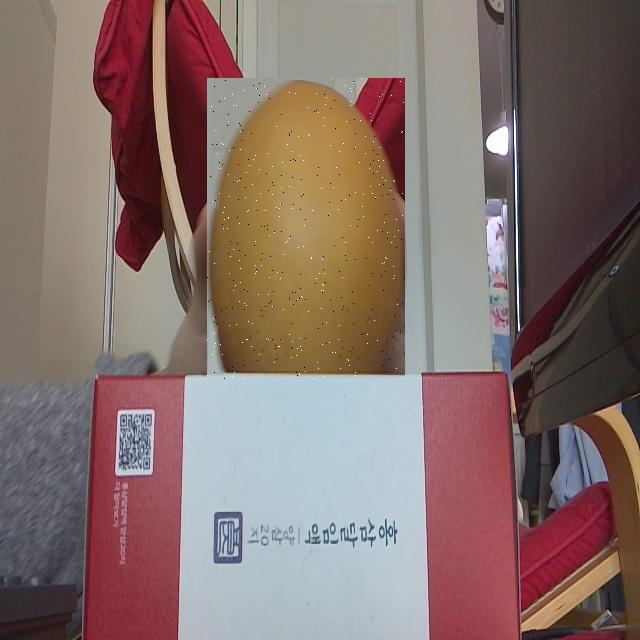pear: (207, 78, 405, 380)
